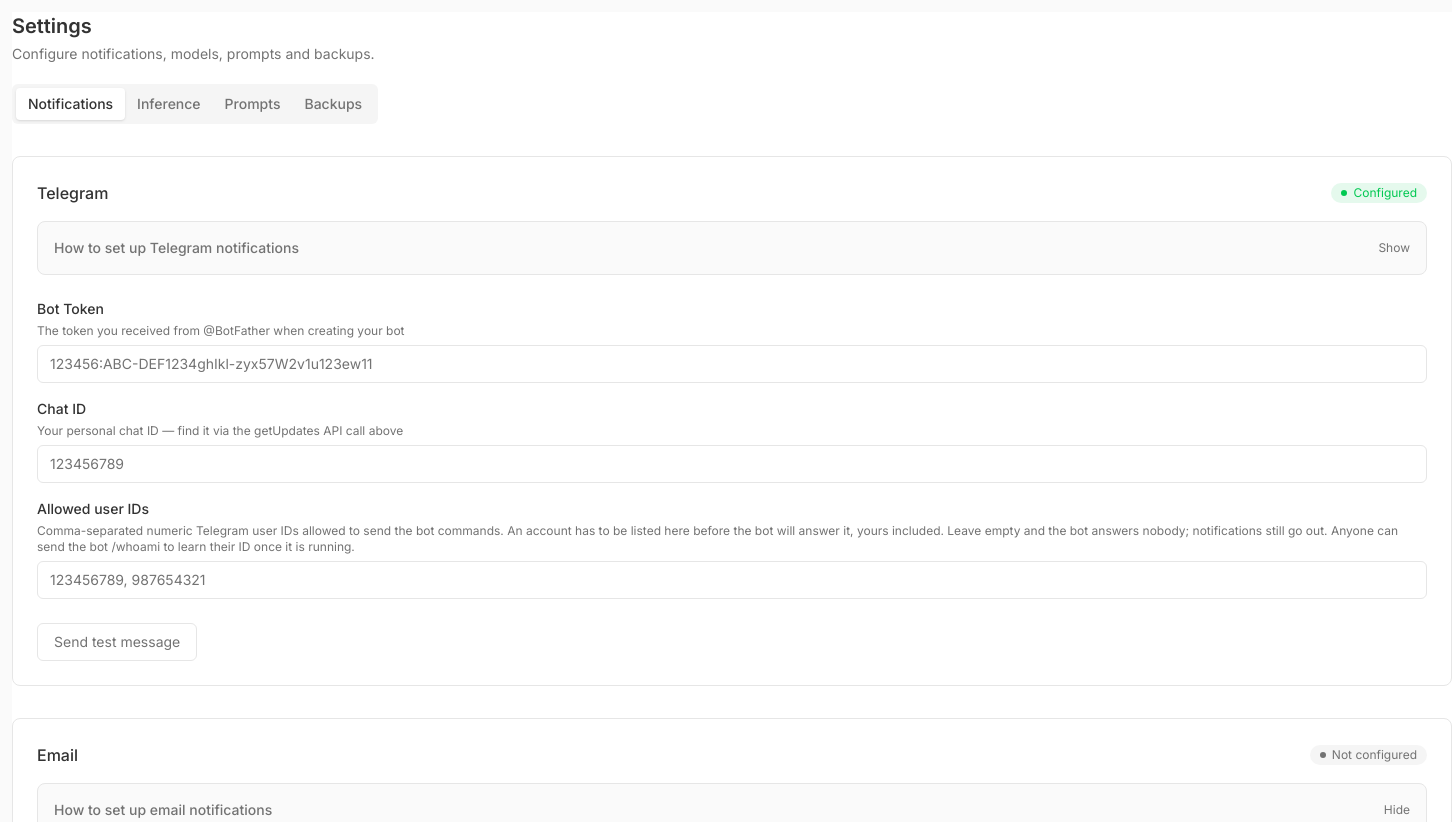
Test: NotificationSettings — save, test, and error paths › toasts the error when a Telegram test fails
Click the button "Send test message" at (117, 642), box [37,623,197,661]
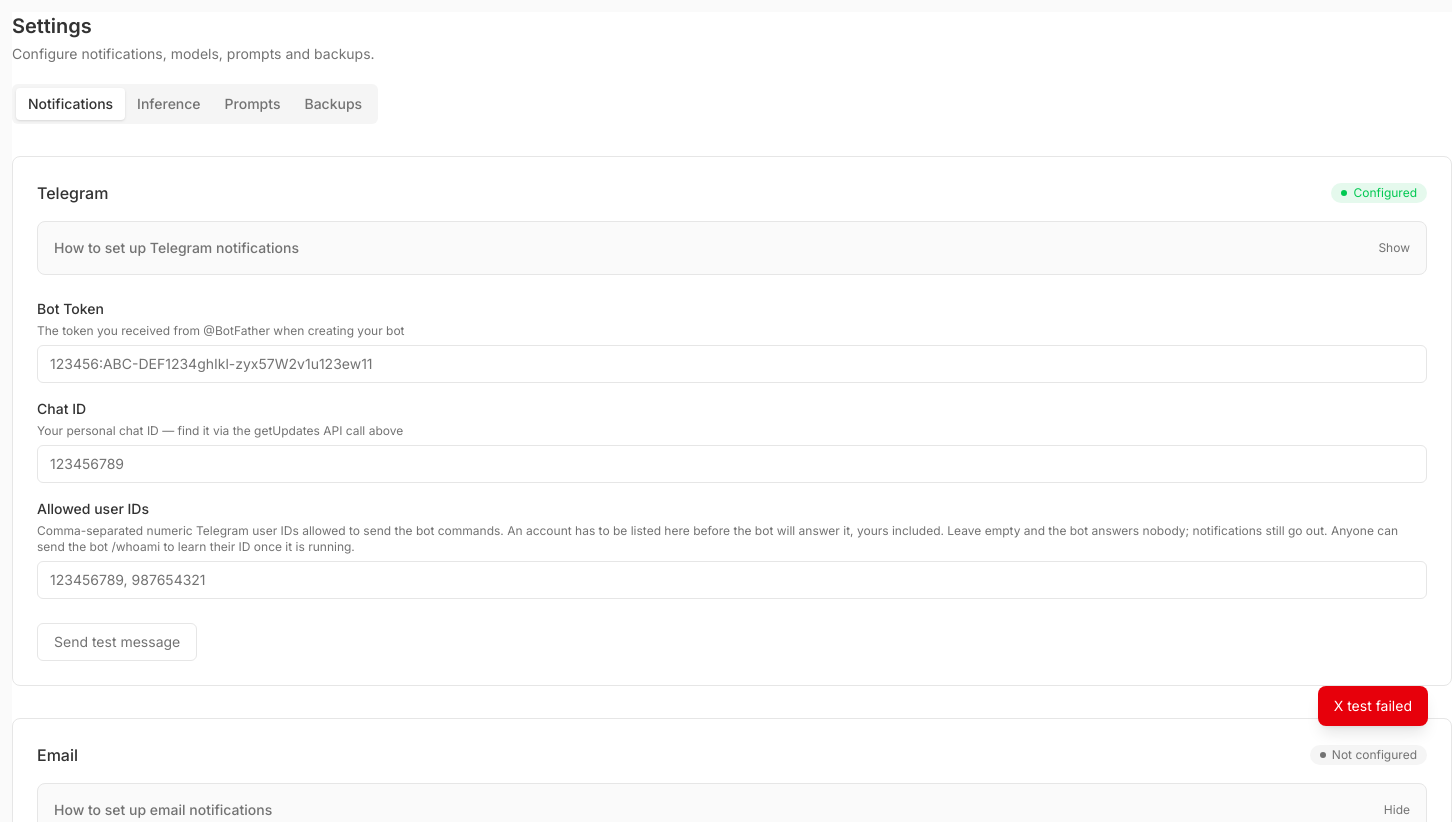
Result: the text "X test failed" is shown at [1318,686,1428,726]
